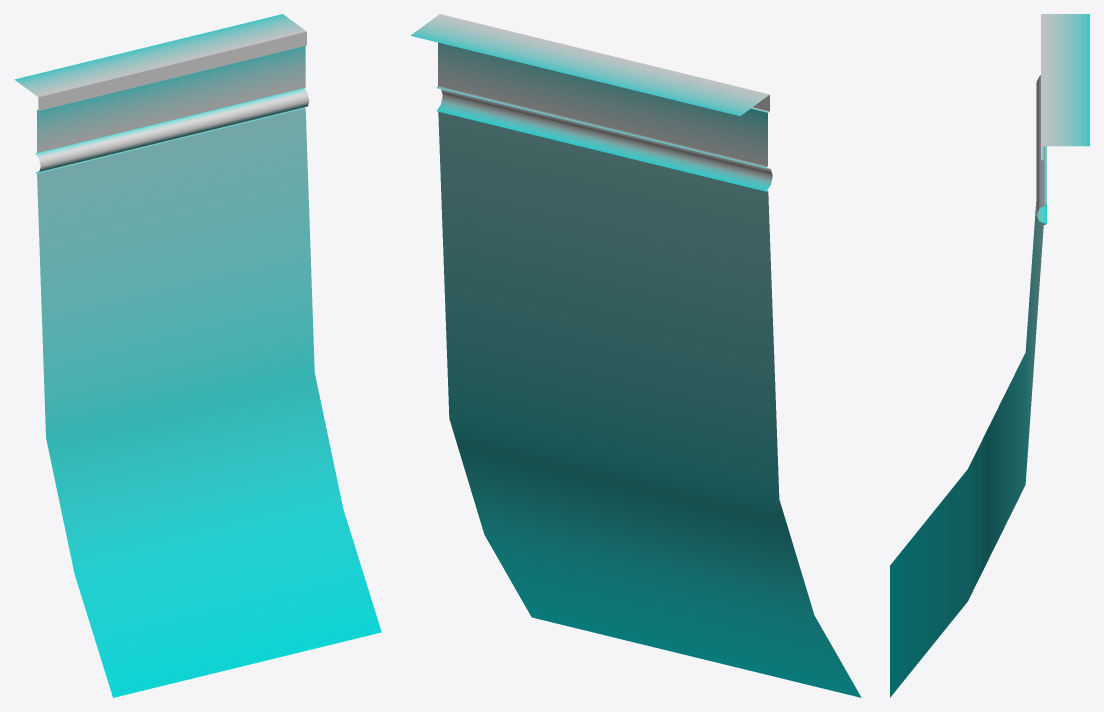
The model's file is CityEdge.fbx.
3 views of the same model, side by side, from view 1: azimuth 30°, elevation 25°; view 2: azimuth 150°, elevation 25°; view 3: azimuth 270°, elevation 25° (orthographic). The views are drawn at different scales.
Parts seen in each view (by area): view 1: CityEdge; view 2: CityEdge; view 3: CityEdge.
Boxes of the visible parts, x1,y1,x2,y2 form: CityEdge: [14, 14, 381, 697]; CityEdge: [410, 14, 861, 697]; CityEdge: [890, 14, 1089, 697].
Size of the model in its own units: 30 by 58.25 by 19.13.
